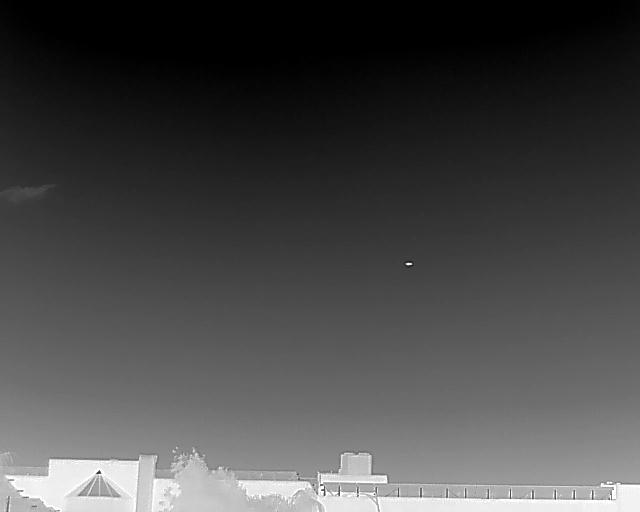fpv-drone: (404, 260, 413, 266)
